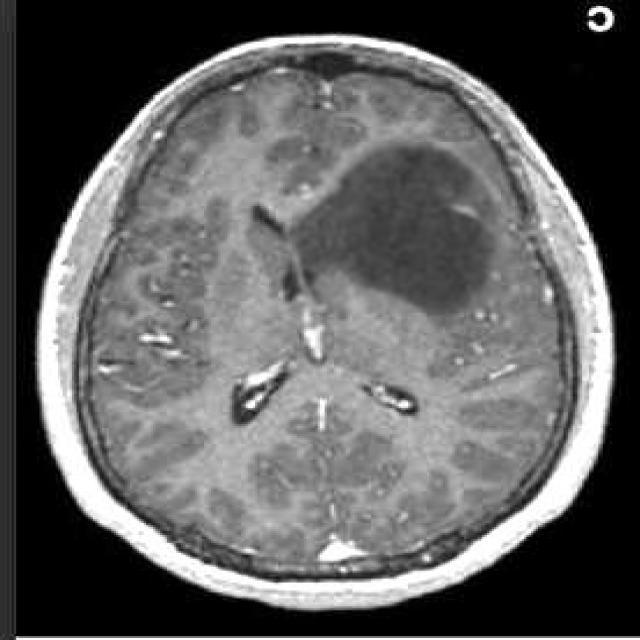Tumor: (292, 143, 501, 312)
